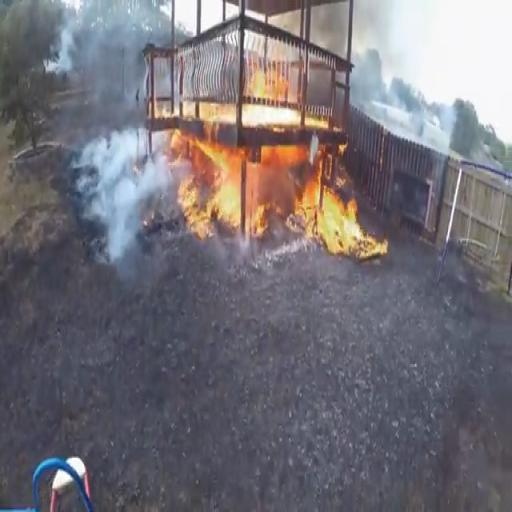fire: (174, 140, 236, 234), (262, 158, 315, 232), (328, 192, 365, 260)
smoke: (89, 140, 144, 254)
